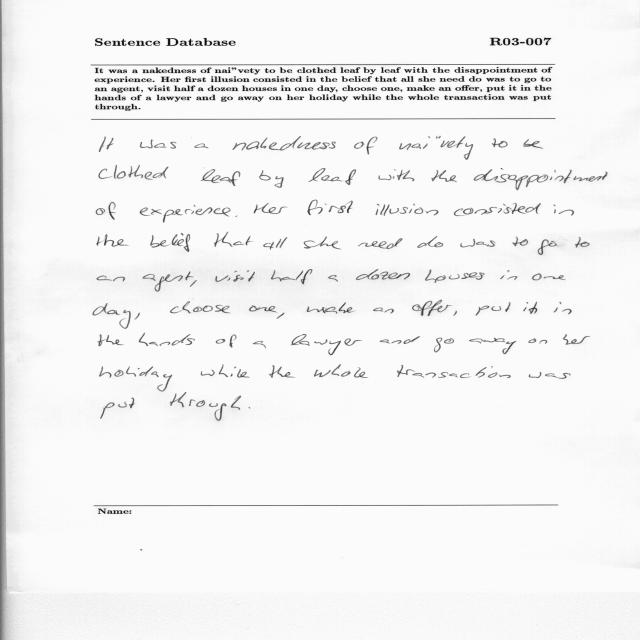word: (474, 168, 608, 190), (170, 392, 241, 421), (100, 366, 173, 392), (399, 136, 473, 160), (232, 136, 336, 151), (140, 205, 231, 222), (291, 334, 362, 355), (397, 365, 511, 378), (454, 203, 541, 216), (143, 271, 194, 292), (99, 165, 168, 180), (93, 303, 131, 329), (425, 269, 485, 283), (309, 168, 357, 185), (151, 233, 191, 252), (469, 338, 516, 354), (101, 397, 135, 419), (376, 204, 438, 216), (170, 302, 231, 314), (139, 334, 195, 347), (314, 365, 368, 378), (307, 200, 353, 215), (201, 169, 240, 186), (412, 300, 452, 316), (201, 365, 250, 378), (271, 270, 312, 285), (356, 269, 410, 280), (214, 232, 253, 247), (307, 302, 355, 314), (358, 238, 403, 249), (304, 237, 342, 250), (476, 302, 511, 316), (215, 270, 255, 282), (259, 170, 284, 188), (97, 234, 129, 247), (354, 137, 377, 155), (379, 170, 415, 181), (253, 203, 288, 214), (96, 202, 116, 220), (269, 365, 295, 378), (379, 336, 420, 344), (140, 140, 176, 149), (431, 170, 457, 182), (263, 237, 287, 250), (417, 236, 443, 248), (98, 335, 124, 347), (538, 239, 557, 255), (434, 338, 454, 353), (563, 334, 590, 345), (529, 372, 571, 379), (460, 239, 496, 247), (216, 335, 236, 348), (532, 274, 566, 281), (100, 136, 114, 152), (554, 205, 574, 216), (554, 302, 572, 314), (249, 306, 277, 313), (523, 139, 543, 148), (500, 270, 517, 280), (97, 276, 125, 282), (524, 302, 538, 314), (512, 237, 528, 247), (575, 237, 590, 247), (492, 139, 508, 148), (373, 308, 394, 314), (529, 338, 548, 344), (253, 341, 266, 349), (194, 144, 208, 149), (328, 275, 338, 281), (190, 280, 197, 287), (134, 313, 140, 320), (277, 313, 284, 319), (453, 311, 457, 316), (236, 216, 238, 217), (249, 407, 251, 408)
